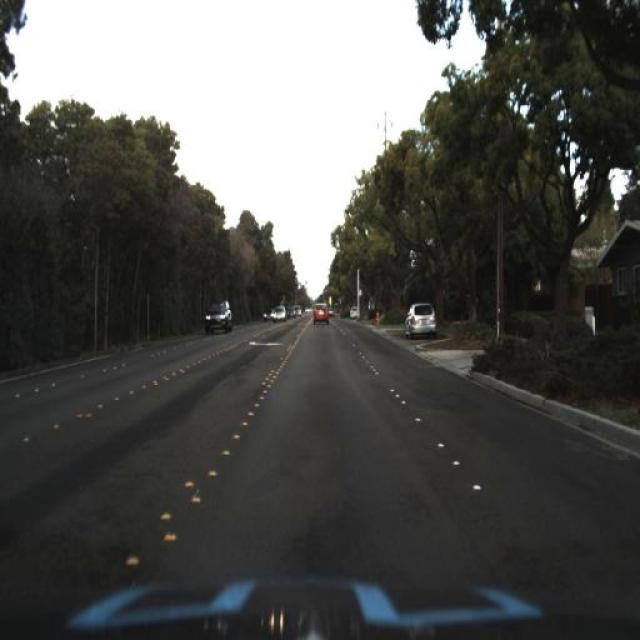car: (404, 293, 440, 342), (194, 291, 235, 333), (308, 292, 334, 328), (270, 300, 291, 324)
